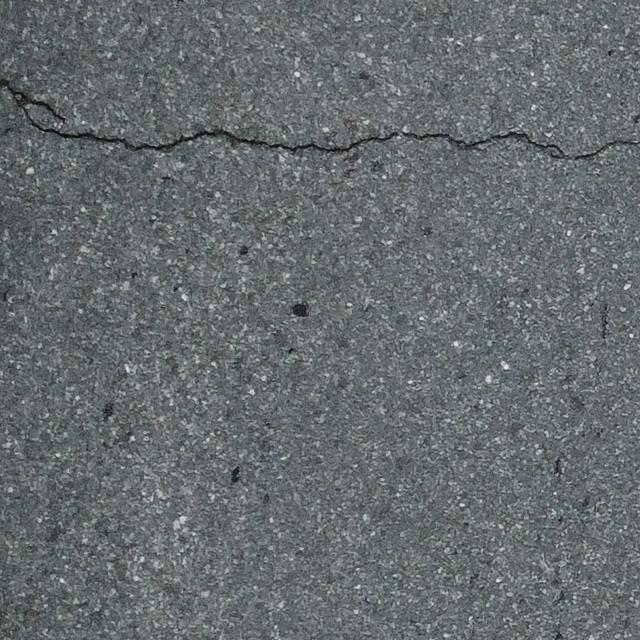TransverseCrack: (1, 79, 640, 162)
